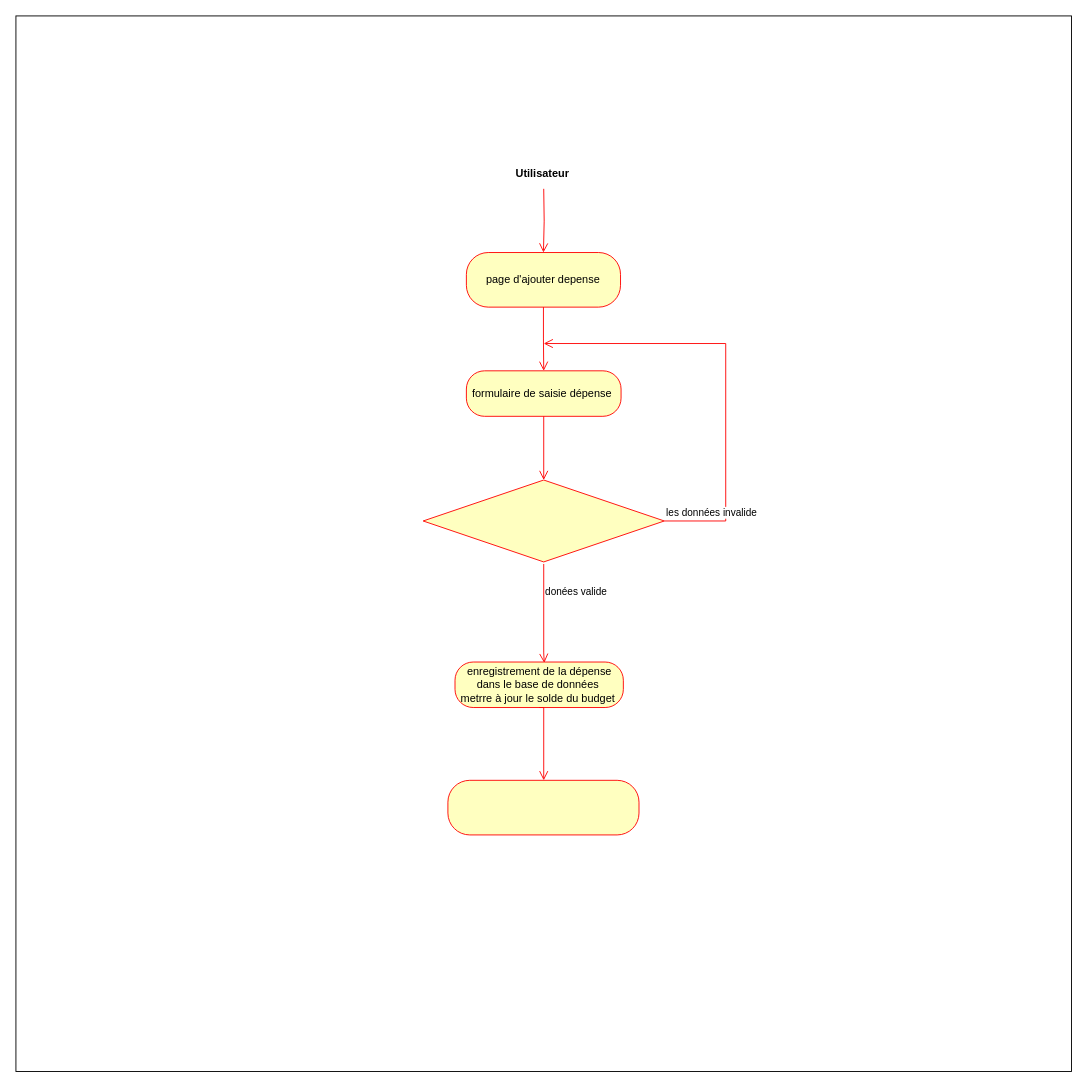
This 1087x1087 diagram has some shape labels left out. Here are the shapes that lost their labels. From the top down, the centre of each, then its label:
At point 543,520: "validation des données".
At point 543,807: "Afficher le nouveau solde du bdeget".
